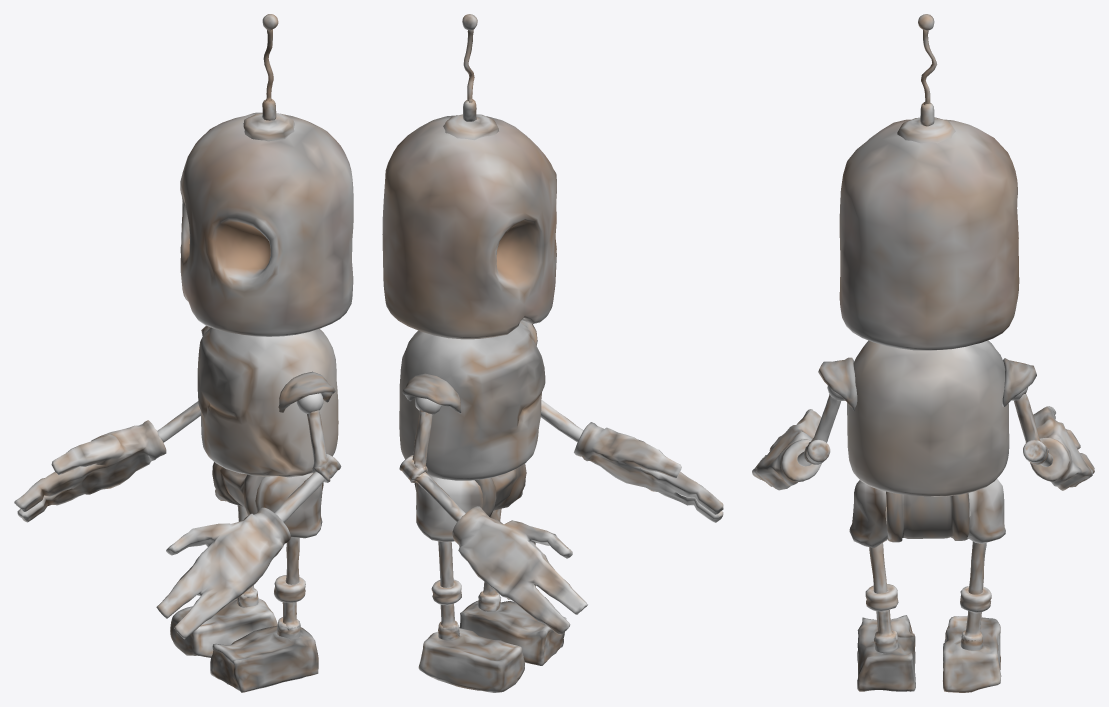
Rendered from Lowpoly_L-19.fbx.
The picture shows the model from 3 angles, left to right: view 1: azimuth 30°, elevation 25°; view 2: azimuth 150°, elevation 25°; view 3: azimuth 270°, elevation 25°; orthographic projection. The views are drawn at different scales.
Visible parts, largest first — view 1: Lowpoly_L_19; view 2: Lowpoly_L_19; view 3: Lowpoly_L_19.
Boxes of the visible parts, x1,y1,x2,y2 form: Lowpoly_L_19: [14, 14, 353, 692]; Lowpoly_L_19: [382, 14, 723, 692]; Lowpoly_L_19: [752, 14, 1094, 692].
Bounding box in the file's own units: 4.14 × 9.74 × 4.51.
